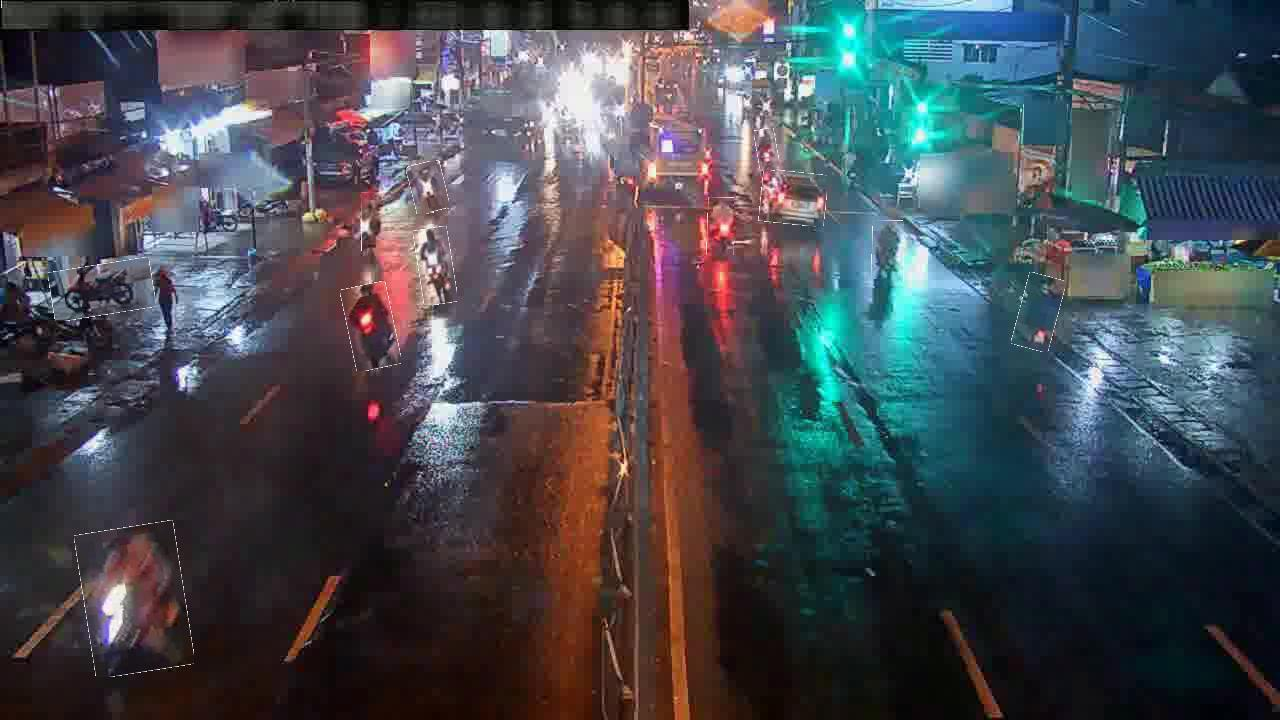car: (760, 170, 827, 226)
motorbike: (80, 524, 190, 675), (50, 261, 155, 319), (344, 283, 398, 371), (1016, 274, 1062, 352), (416, 227, 456, 305), (872, 221, 905, 287), (408, 162, 448, 214), (362, 192, 390, 254), (707, 197, 735, 256), (756, 128, 779, 172), (724, 152, 725, 154)
